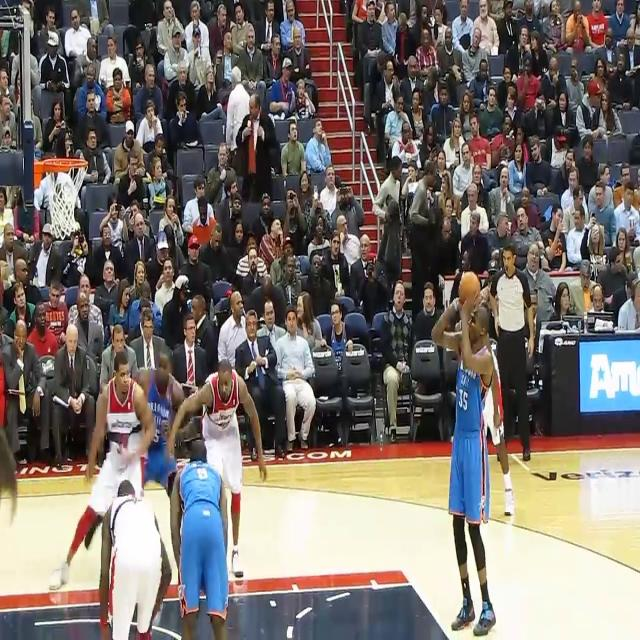ball: (459, 271, 481, 309)
